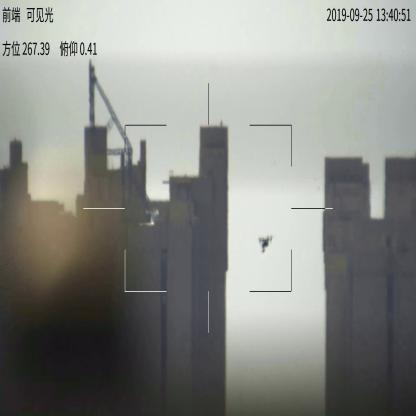uav: (257, 234, 278, 257)
